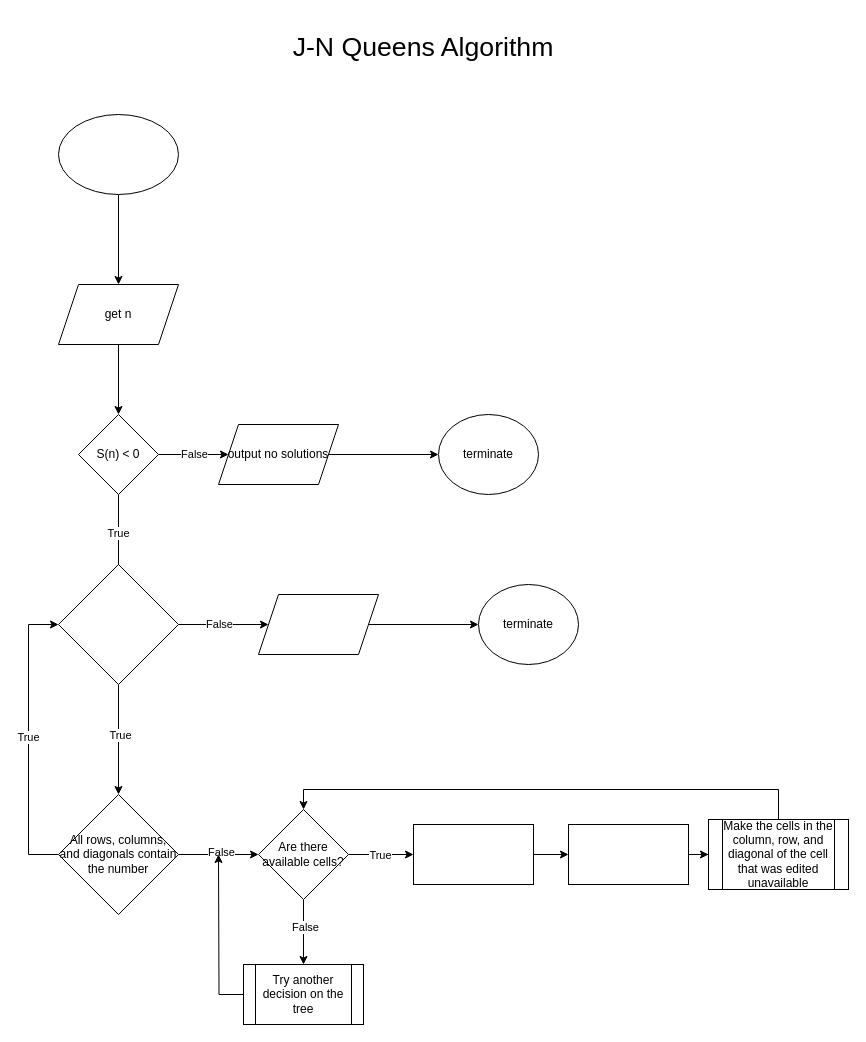
Some shapes in this 866 by 1042 pixel diagram are drawn without their labels. The box of each missing label's shape, as (x1, y1, x2, y2) in pixels:
Add number to first available cell: (568, 824, 688, 884)
For every number 1 to n inclusive: (58, 564, 178, 684)
output solution: (258, 594, 378, 654)
start: (58, 114, 178, 194)
Store all possible decisions in a tree: (412, 824, 534, 884)
